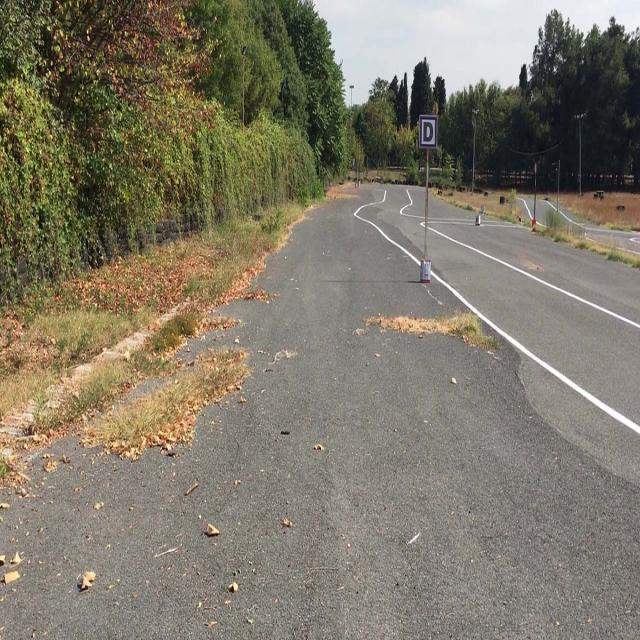durak: (419, 114, 437, 148)
